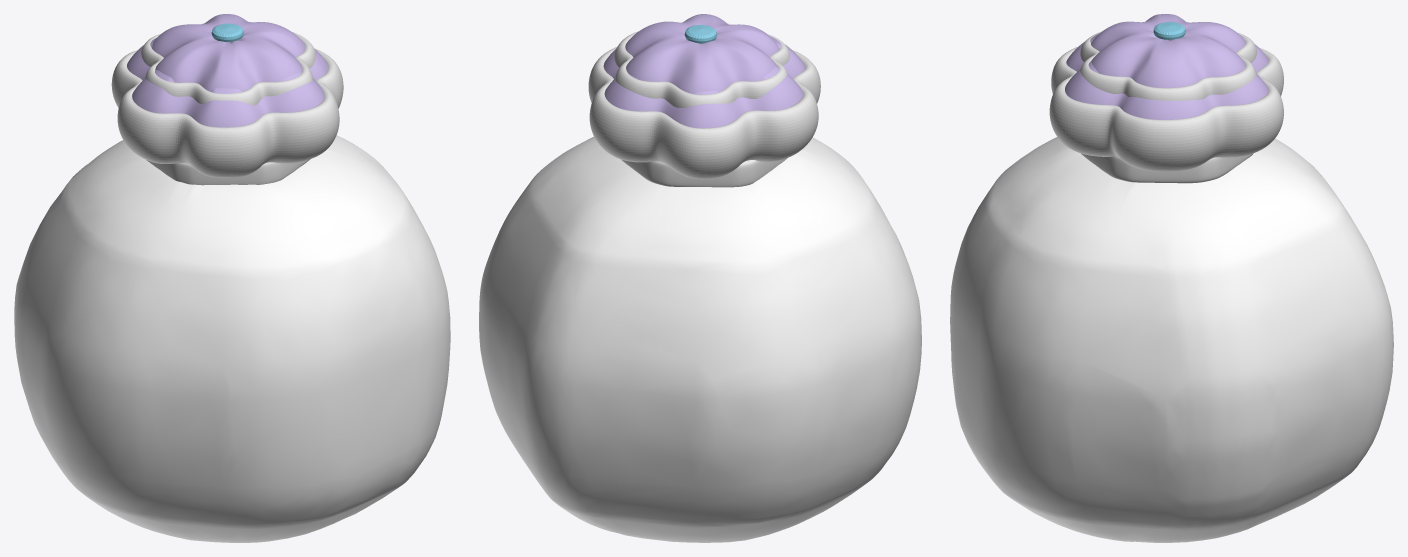
File: puffy21.glb
3 renders of one model, left to right at view 1: azimuth 30°, elevation 25°; view 2: azimuth 150°, elevation 25°; view 3: azimuth 270°, elevation 25°, orthographic.
Visible parts, largest first — view 1: Cylinder.045, Plane.089, Plane.091, Plane.090, Plane.092, Cylinder.015; view 2: Cylinder.045, Plane.089, Plane.091, Plane.090, Plane.092, Cylinder.015; view 3: Cylinder.045, Plane.089, Plane.091, Plane.090, Plane.092, Cylinder.015.
Part boxes in pixels (left/top/right/bottom): Cylinder.045: left=14, top=135, right=450, bottom=542; Plane.089: left=111, top=48, right=343, bottom=177; Plane.091: left=152, top=14, right=305, bottom=91; Plane.090: left=127, top=38, right=328, bottom=127; Plane.092: left=141, top=22, right=315, bottom=105; Cylinder.015: left=146, top=159, right=310, bottom=185; Cylinder.045: left=479, top=136, right=921, bottom=542; Plane.089: left=588, top=47, right=820, bottom=179; Plane.091: left=625, top=14, right=779, bottom=93; Plane.090: left=603, top=37, right=805, bottom=128; Plane.092: left=614, top=23, right=789, bottom=107; Cylinder.015: left=621, top=158, right=787, bottom=187; Cylinder.045: left=950, top=137, right=1393, bottom=542; Plane.089: left=1049, top=47, right=1283, bottom=171; Plane.091: left=1091, top=14, right=1245, bottom=87; Plane.090: left=1065, top=33, right=1268, bottom=119; Plane.092: left=1080, top=31, right=1256, bottom=100; Cylinder.015: left=1081, top=153, right=1253, bottom=183.
Size of the model in its own units: 80.33 by 96.91 by 80.95.
